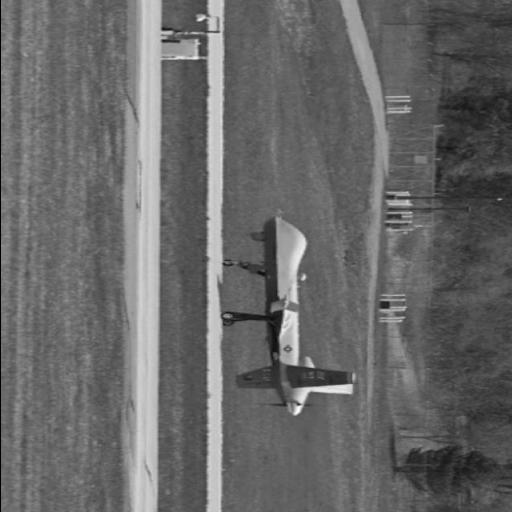uav: (212, 206, 358, 420)
